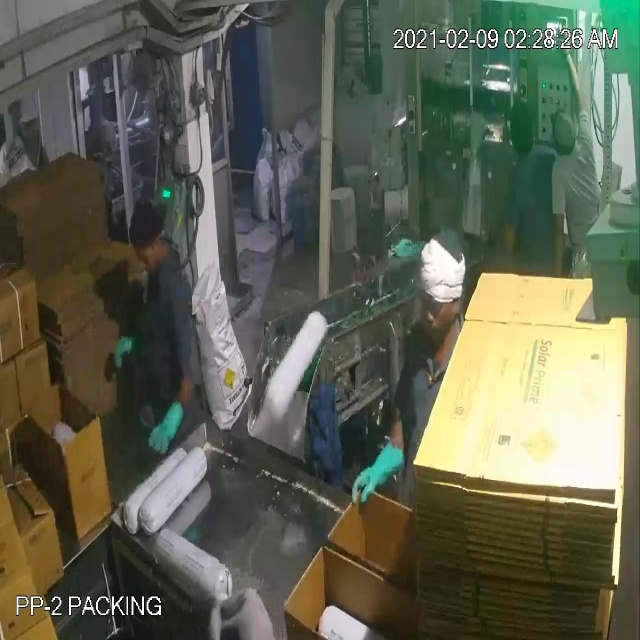Guantes: (346, 441, 410, 508), (105, 326, 155, 380), (146, 396, 186, 457)
Sin_guantes: (557, 37, 586, 117)
